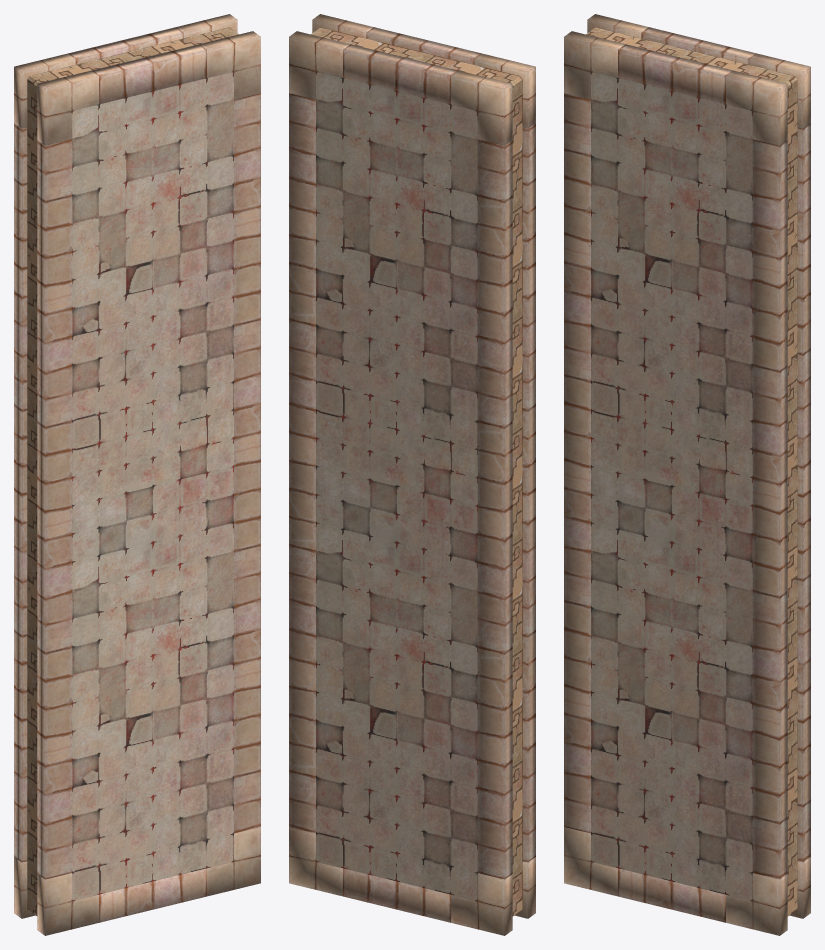
Rendered from RiseParts001.obj.
3 renders of one model, left to right at view 1: azimuth 30°, elevation 25°; view 2: azimuth 150°, elevation 25°; view 3: azimuth 330°, elevation 25°, orthographic.
Visible parts, largest first — view 1: pCube4758__FloorStoneBase02, EdgeStone01_low1_1__EdgeStoneBlock02, EdgeStone01_low1_1__EdgeStoneBlock03, pCube1__ReliefStonePattern01; view 2: pCube4758__FloorStoneBase02, EdgeStone01_low1_1__EdgeStoneBlock02, EdgeStone01_low1_1__EdgeStoneBlock03, pCube1__ReliefStonePattern01; view 3: pCube4758__FloorStoneBase02, EdgeStone01_low1_1__EdgeStoneBlock02, EdgeStone01_low1_1__EdgeStoneBlock03, pCube1__ReliefStonePattern01.
Part boxes in pixels (x1=…): pCube4758__FloorStoneBase02: x1=72, y1=71, x2=233, y2=900; EdgeStone01_low1_1__EdgeStoneBlock02: x1=14, y1=27, x2=260, y2=922; EdgeStone01_low1_1__EdgeStoneBlock03: x1=14, y1=14, x2=260, y2=935; pCube1__ReliefStonePattern01: x1=27, y1=27, x2=238, y2=916; pCube4758__FloorStoneBase02: x1=316, y1=71, x2=477, y2=900; EdgeStone01_low1_1__EdgeStoneBlock02: x1=289, y1=27, x2=535, y2=922; EdgeStone01_low1_1__EdgeStoneBlock03: x1=289, y1=14, x2=535, y2=935; pCube1__ReliefStonePattern01: x1=311, y1=27, x2=522, y2=916; pCube4758__FloorStoneBase02: x1=591, y1=71, x2=752, y2=900; EdgeStone01_low1_1__EdgeStoneBlock02: x1=564, y1=27, x2=810, y2=922; EdgeStone01_low1_1__EdgeStoneBlock03: x1=564, y1=14, x2=810, y2=935; pCube1__ReliefStonePattern01: x1=586, y1=27, x2=797, y2=916.
Bounding box in the file's own units: 800 × 3000 × 200.
5 materials, 4 textured.
